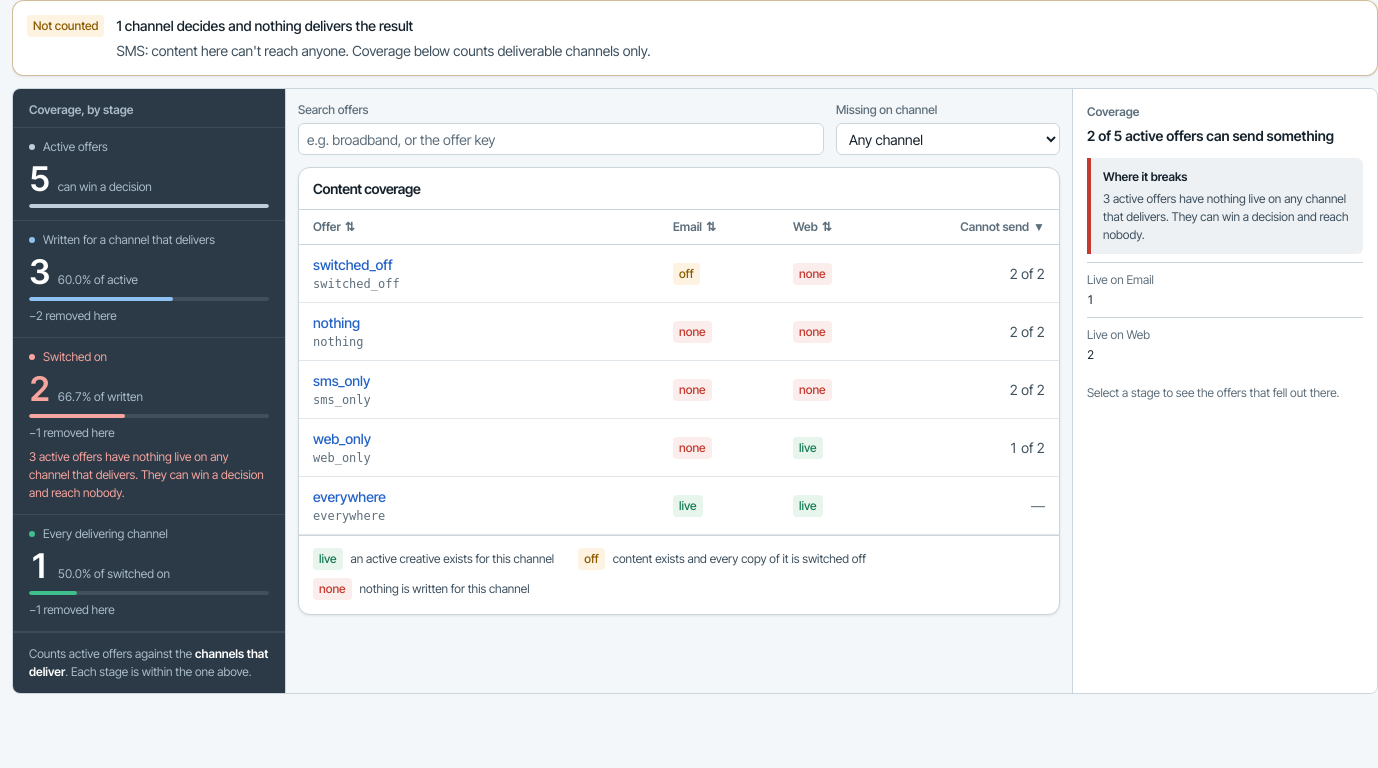
Scenario: the coverage Cascade › at the break, says why it breaks rather than what fell out
Click the button with aria-label "Switched on: 2, 66.7% of written, 1 removed here. 3 active o" at (75, 356), box top-left (13, 338), bottom-right (285, 515)
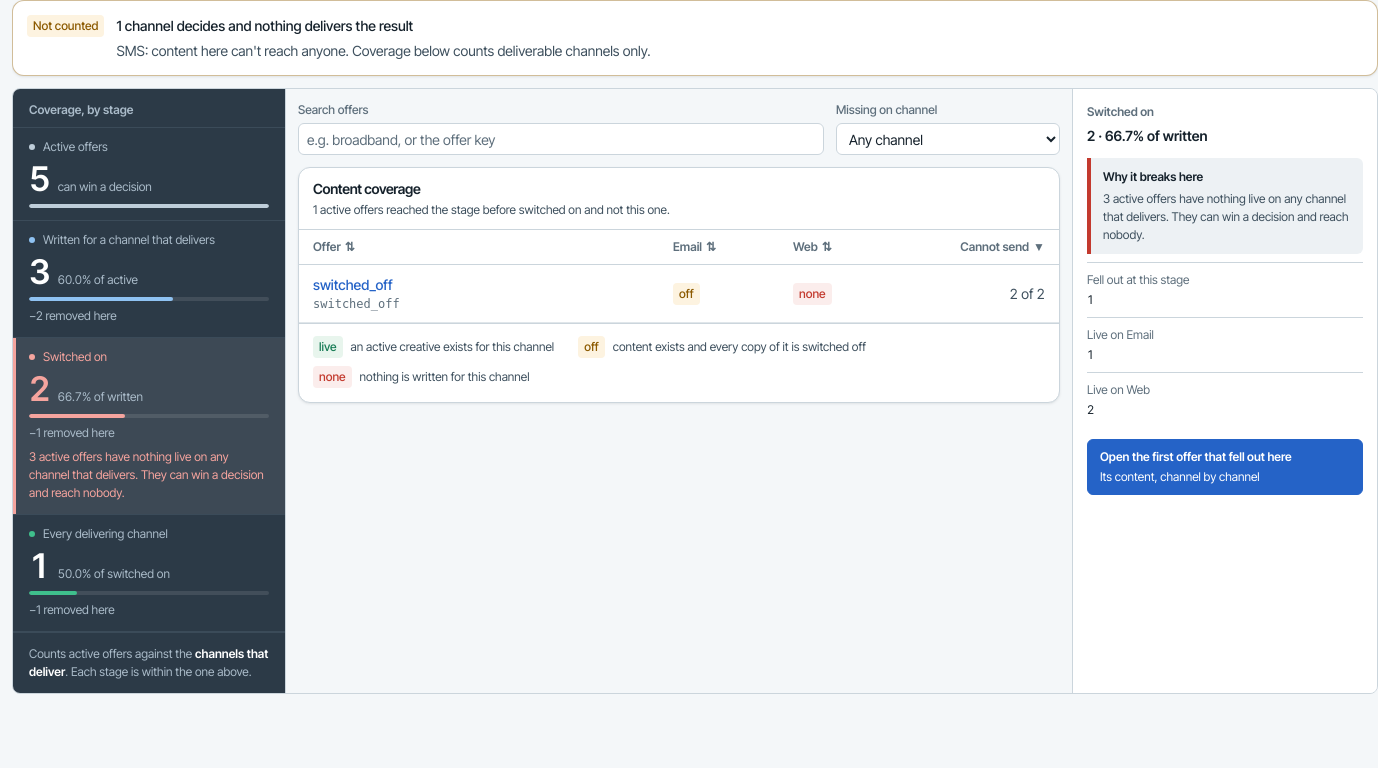
Now the text "Why it breaks here" is shown, box top-left (1103, 169), bottom-right (1203, 184)
